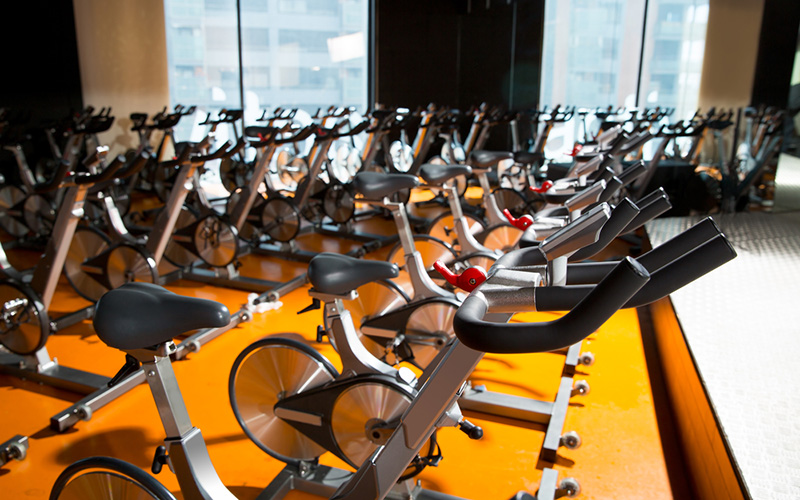gym_bike: (218, 248, 605, 459)
